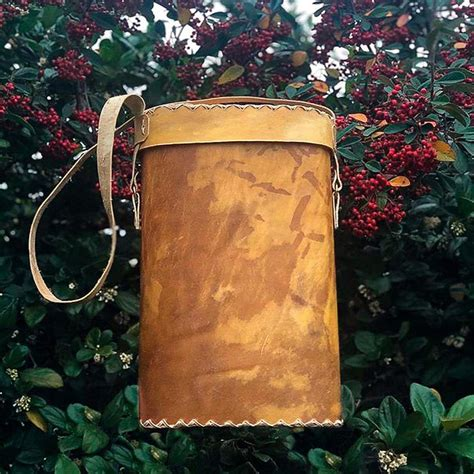cuero: (102, 91, 345, 430)
